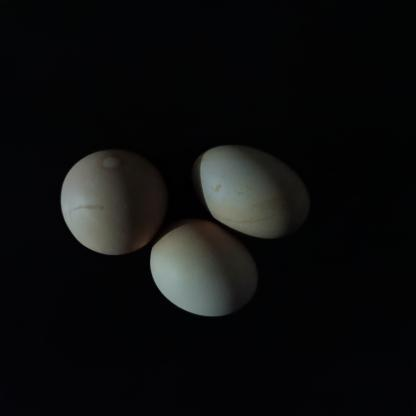egg: (122, 225, 266, 322), (182, 131, 295, 243), (56, 144, 165, 250)
